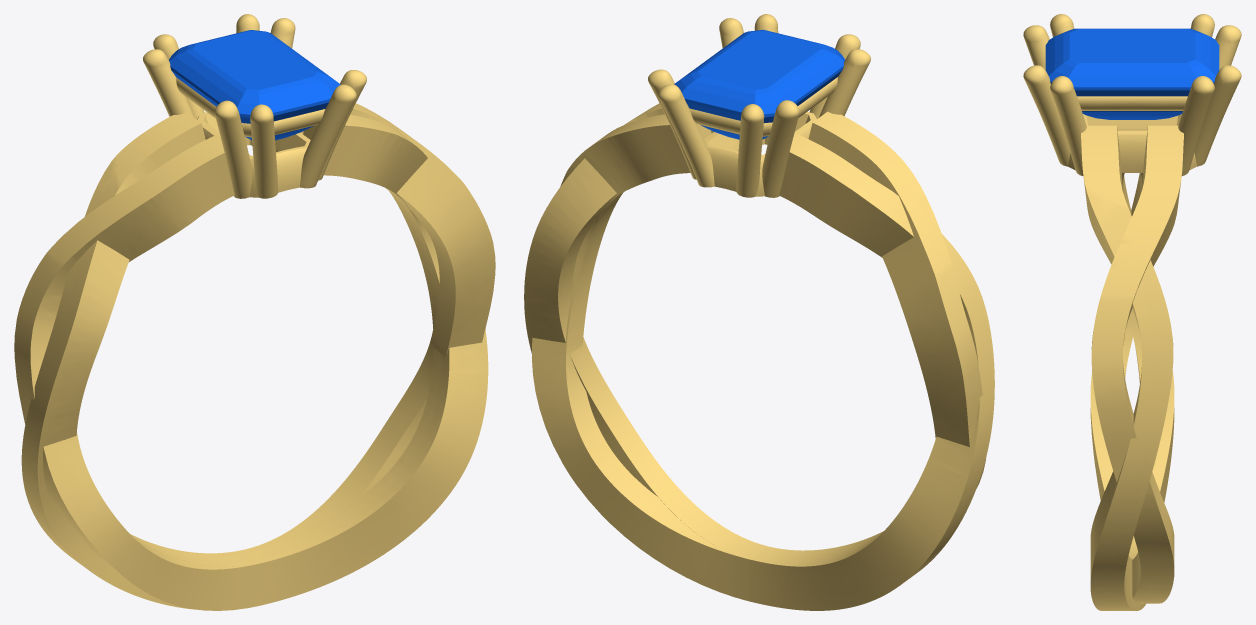
File: bluesapphire-emerald-yellowgold-8prong-twist-nosidestones.glb
3 renders of one model, left to right at view 1: azimuth 30°, elevation 25°; view 2: azimuth 150°, elevation 25°; view 3: azimuth 270°, elevation 25°, orthographic.
Visible parts, largest first — view 1: metal.001, stone; view 2: metal.001, stone; view 3: metal.001, stone.
Part boxes in pixels (x1,y1,x2,y2): metal.001: (14, 14, 495, 610); stone: (169, 30, 340, 140); metal.001: (524, 14, 994, 610); stone: (674, 29, 844, 139); metal.001: (1023, 14, 1241, 610); stone: (1045, 28, 1219, 119).
Size of the model in its own units: 19.97 by 22.85 by 8.4.
